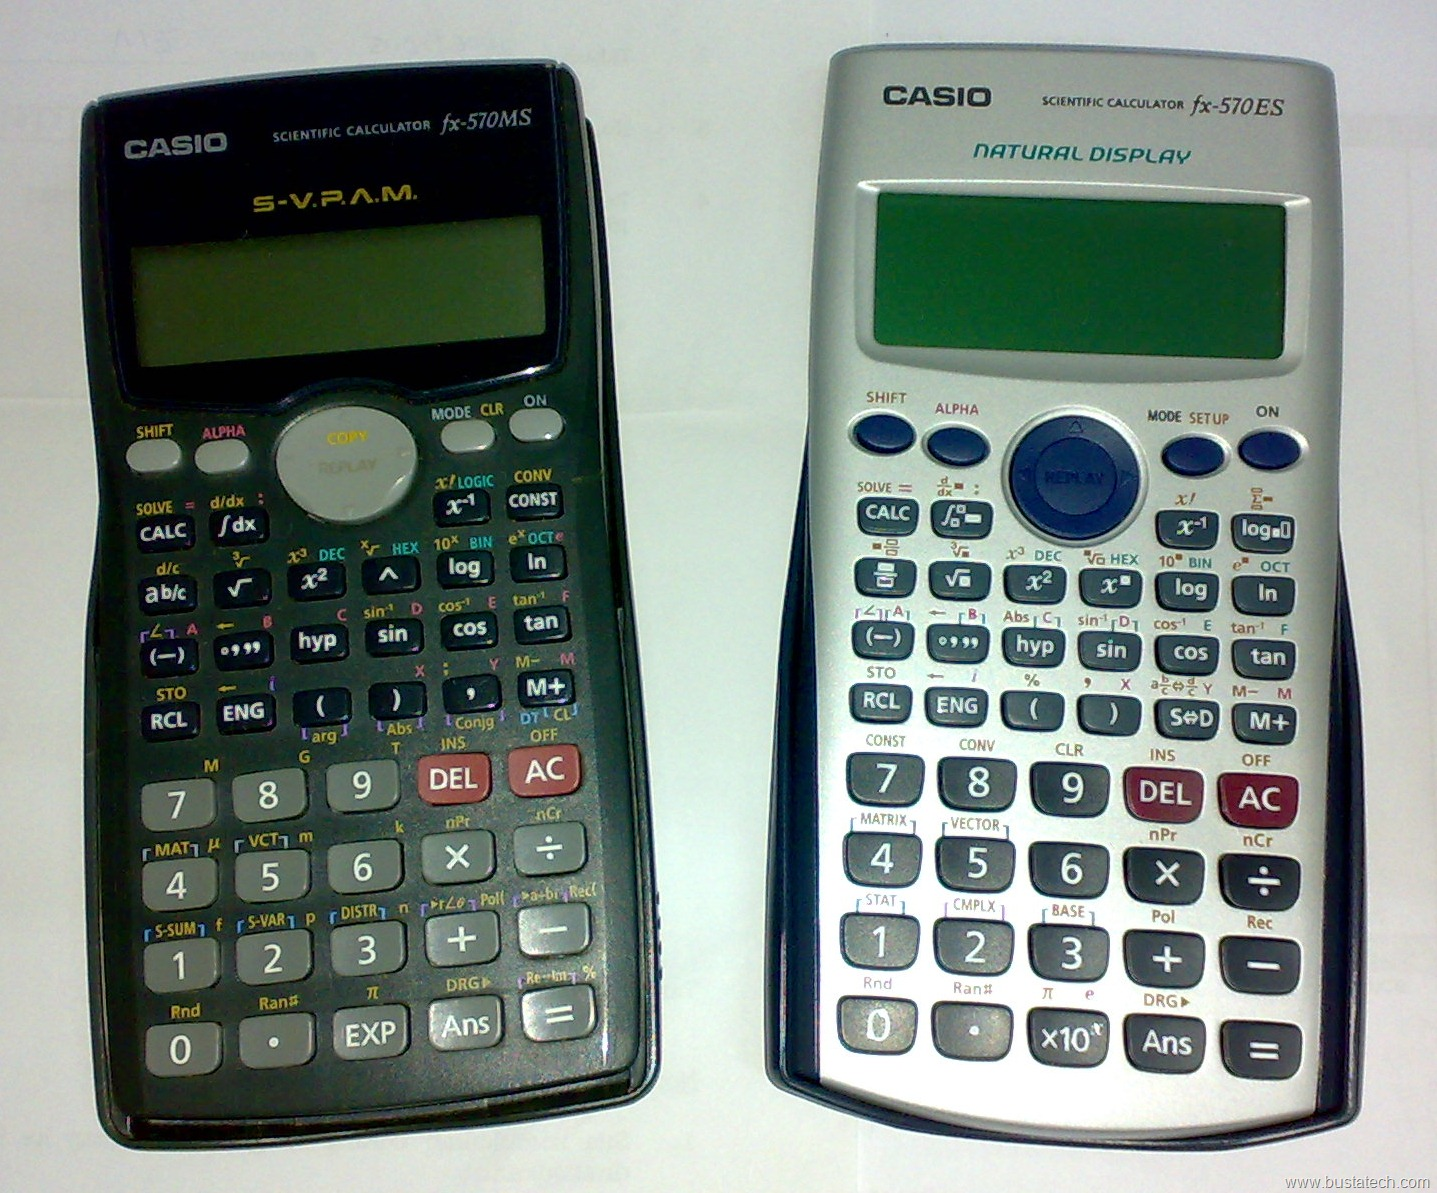Calculator: (747, 21, 1384, 1162), (64, 41, 680, 1162)
